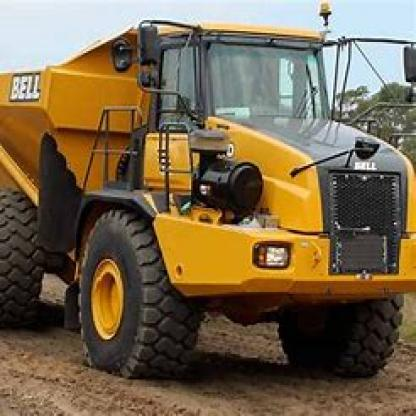dump_truck: (7, 4, 414, 386)
